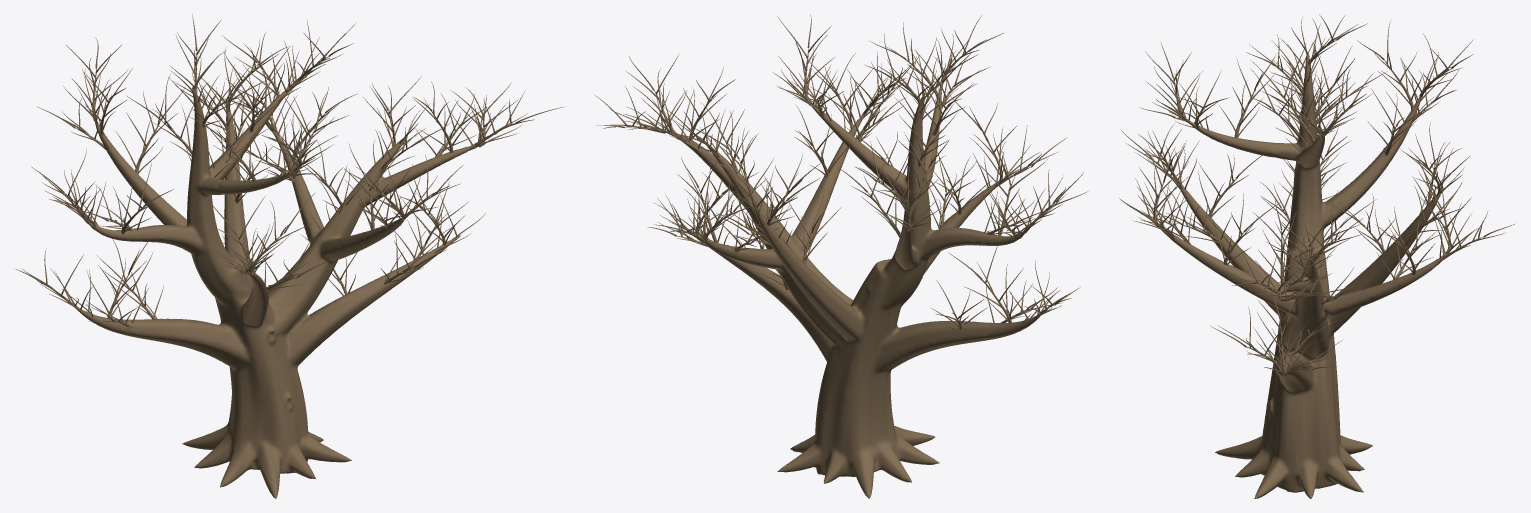
The model's file is wood-BSeWtO-r.glb.
3 views of the same model, side by side, from view 1: azimuth 30°, elevation 25°; view 2: azimuth 150°, elevation 25°; view 3: azimuth 270°, elevation 25° (orthographic).
Parts seen in each view (by area): view 1: Wood; view 2: Wood; view 3: Wood.
Boxes of the visible parts, bbox=[...] form: Wood: bbox=[14, 14, 564, 498]; Wood: bbox=[595, 14, 1088, 498]; Wood: bbox=[1119, 14, 1515, 498].
Size of the model in its own units: 8.24 by 7.1 by 5.76.
